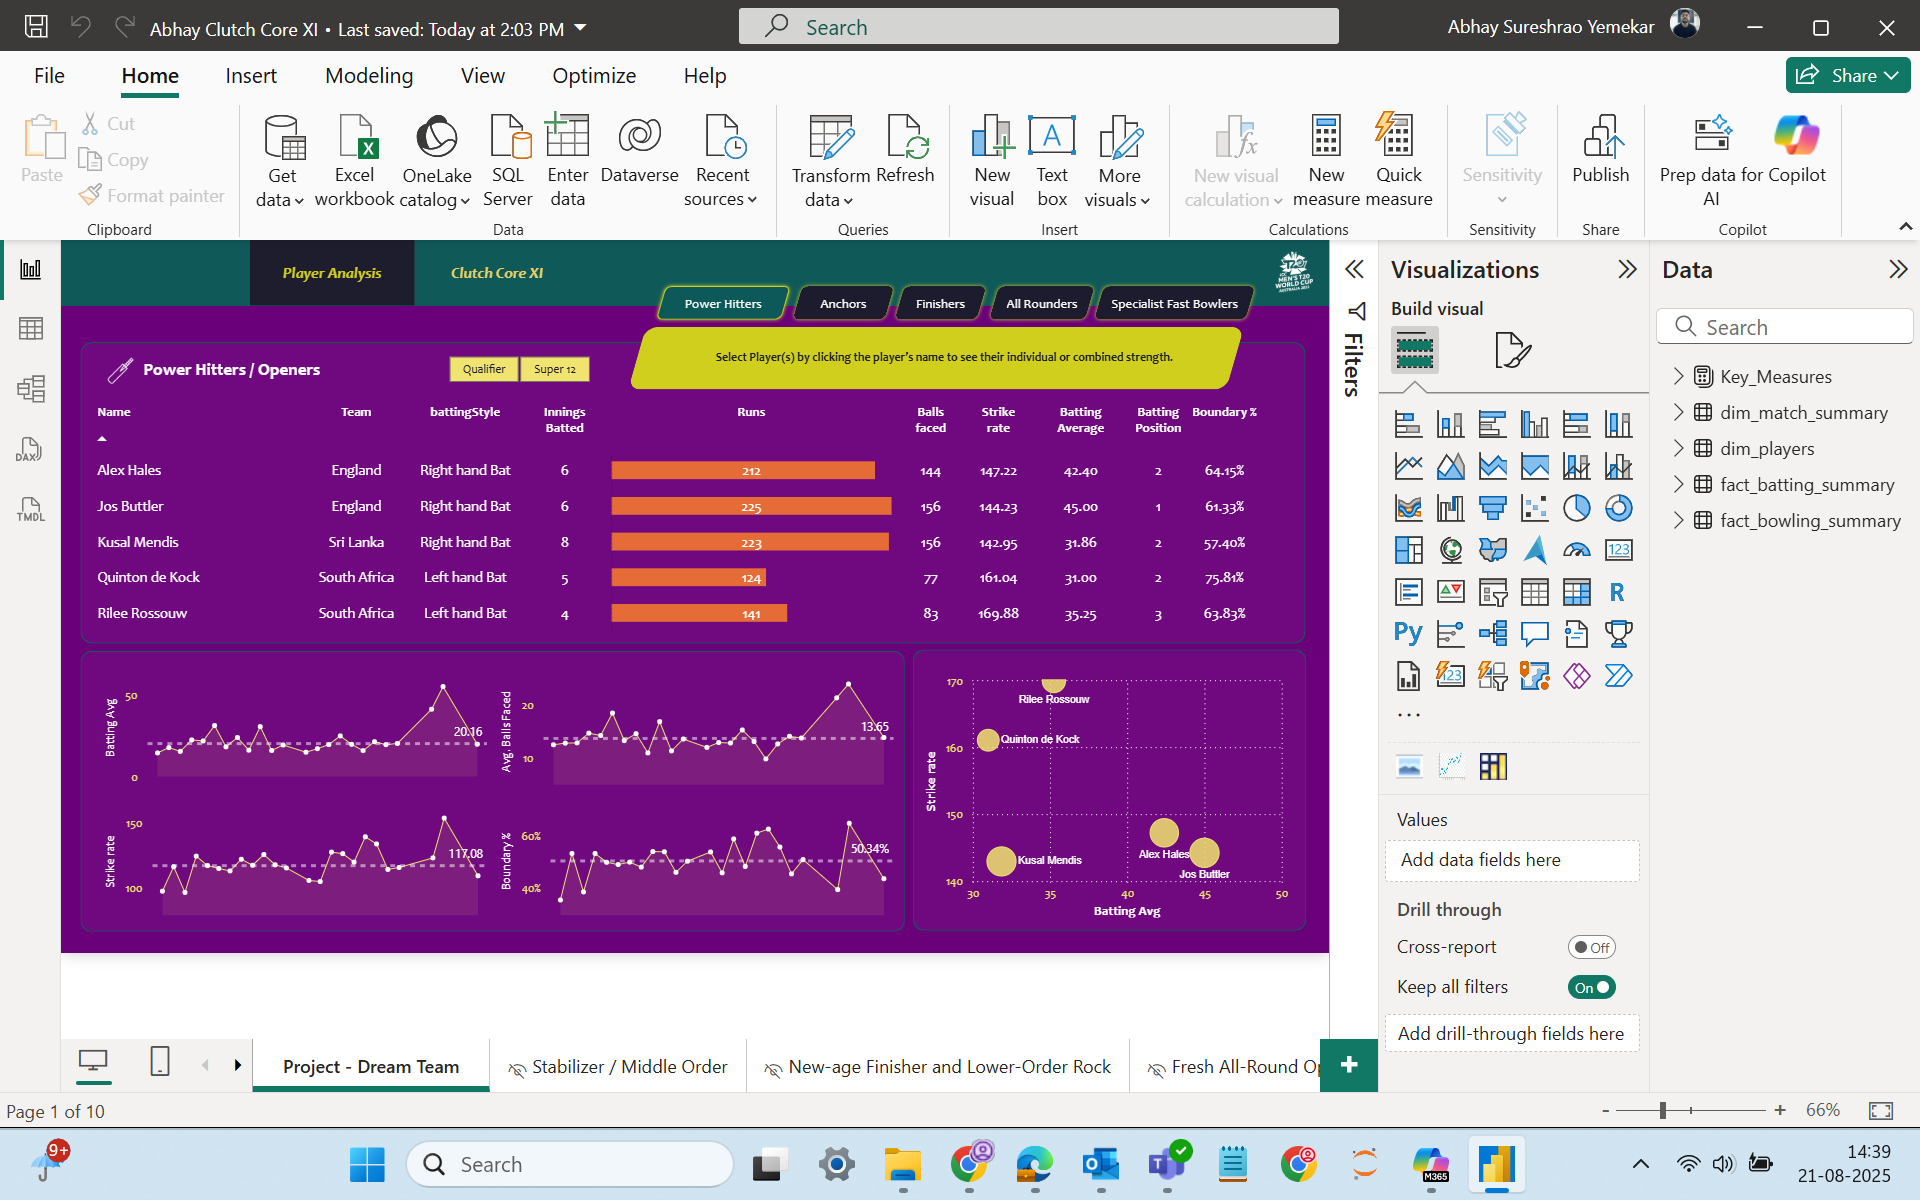

Layout of this report page (visuals, bound fields, positions):
{"tool":"powerbi","page":{"name":"New All Rounders / Lower Middle Order","canvas":[1280,720],"ordinal":3},"visuals":[{"type":"shape","box":[0,66,1280,654],"z":0},{"type":"card","fields":{"Values":["Key_Measures.Strike rate"]},"box":[867,89,93,60],"z":0,"group":"g2"},{"type":"shape","box":[83.7,116.3,260,31.2],"z":0,"group":"g1"},{"type":"card","fields":{"Values":["Key_Measures.Bat Avg"]},"box":[768,89,92,60],"z":1000,"group":"g2"},{"type":"image","box":[37.5,113.8,44,36],"z":1000,"group":"g1"},{"type":"shape","box":[20,414.4,832.2,283.3],"z":1000},{"type":"actionButton","box":[734,42.6,111,42],"z":2000},{"type":"card","fields":{"Values":["Key_Measures.Bowling Strike Rate"]},"box":[1073,89,100,60],"z":2000,"group":"g2"},{"type":"actionButton","box":[596,42.6,144,42],"z":3000},{"type":"card","fields":{"Values":["Key_Measures.Economy"]},"box":[966,89,101,60],"z":3000,"group":"g2"},{"type":"actionButton","box":[838,42.6,101,42],"z":4000},{"type":"actionButton","box":[932,42.6,115,42],"z":5000},{"type":"actionButton","box":[1039,42.6,171,42],"z":6000},{"type":"image","box":[1220,3,48,59],"z":7000},{"type":"shape","box":[20,102.2,1236.7,304.4],"z":9000},{"type":"group","id":"g1","title":"Group 2","box":[37.5,113.8,306.2,35],"z":10000},{"type":"slicer","fields":{"Values":["dim_match_summary.stage"]},"box":[366.7,111.1,191.1,38.9],"z":11000},{"type":"tableEx","fields":{"Values":["dim_player.name","Min(dim_player.team)","Min(dim_player.Batting Style)","Min(dim_player.Bowling Style)","Key_Measures.Total Innings Batted","Key_Measures.Total Runs","Key_Measures.Bat Avg","Key_Measures.Strike rate","Key_Measures.Total Innings Bowled","Key_Measures.Balls Bowled","Key_Measures.wickets","Key_Measures.Economy"]},"box":[26,151,1231,255],"z":12000},{"type":"shape","box":[572,88,622,63],"z":13000},{"type":"shape","box":[591,103,173,34],"z":14000},{"type":"group","id":"g2","title":"Combined Perfoamce Metrices","box":[768,89,405,60],"z":15000},{"type":"scatterChart","fields":{"Category":["dim_player.name"],"X":["Key_Measures.Bowling Strike Rate"],"Y":["Key_Measures.Economy"],"Size":["Key_Measures.Total Runs"]},"box":[874.4,427,370,254],"z":16000},{"type":"actionButton","title":"Button Player Ana selected","box":[191,0,166,66],"z":17000},{"type":"actionButton","title":"Button Player Ana selected","box":[357,0,166,66],"z":18000},{"type":"shape","box":[612,100,560,36],"z":19000},{"type":"shape","box":[859.5,414.3,396.7,283.1],"z":20000},{"type":"areaChart","fields":{"Category":["dim_match_summary.Match_Date.Variation.Date Hierarchy.Day"],"Y":["Key_Measures.Economy"]},"box":[446,430,406,126],"z":21000},{"type":"areaChart","fields":{"Category":["dim_match_summary.Match_Date.Variation.Date Hierarchy.Day"],"Y":["Key_Measures.Bowling Strike Rate"]},"box":[446,556,406,126],"z":22000},{"type":"areaChart","fields":{"Category":["dim_match_summary.Match_Date.Variation.Date Hierarchy.Day"],"Y":["Key_Measures.Bat Avg"]},"box":[40,428.9,395.6,126.7],"z":23000},{"type":"areaChart","fields":{"Category":["dim_match_summary.Match_Date.Variation.Date Hierarchy.Day"],"Y":["Key_Measures.Strike rate"]},"box":[40,555.6,396.7,125.6],"z":24000}]}

Visuals, with their boxes on the page's 1280x720 design canvas (x1, y1, x2, y2). These are canvas units, not pixel positions in the 1920x1200 screenshot, which may show the page scaled, cropped or inside an application window:
shape: (x1=0, y1=66, x2=1280, y2=720)
card - Key_Measures.Strike rate: (x1=867, y1=89, x2=960, y2=149)
shape: (x1=84, y1=116, x2=344, y2=148)
card - Key_Measures.Bat Avg: (x1=768, y1=89, x2=860, y2=149)
image: (x1=38, y1=114, x2=82, y2=150)
shape: (x1=20, y1=414, x2=852, y2=698)
actionButton: (x1=734, y1=43, x2=845, y2=85)
card - Key_Measures.Bowling Strike Rate: (x1=1073, y1=89, x2=1173, y2=149)
actionButton: (x1=596, y1=43, x2=740, y2=85)
card - Key_Measures.Economy: (x1=966, y1=89, x2=1067, y2=149)
actionButton: (x1=838, y1=43, x2=939, y2=85)
actionButton: (x1=932, y1=43, x2=1047, y2=85)
actionButton: (x1=1039, y1=43, x2=1210, y2=85)
image: (x1=1220, y1=3, x2=1268, y2=62)
shape: (x1=20, y1=102, x2=1257, y2=407)
"Group 2" group: (x1=38, y1=114, x2=344, y2=149)
slicer - dim_match_summary.stage: (x1=367, y1=111, x2=558, y2=150)
tableEx - dim_player.name x Min(dim_player.team): (x1=26, y1=151, x2=1257, y2=406)
shape: (x1=572, y1=88, x2=1194, y2=151)
shape: (x1=591, y1=103, x2=764, y2=137)
"Combined Perfoamce Metrices" group: (x1=768, y1=89, x2=1173, y2=149)
scatterChart - dim_player.name x Key_Measures.Bowling Strike Rate: (x1=874, y1=427, x2=1244, y2=681)
"Button Player Ana selected" actionButton: (x1=191, y1=0, x2=357, y2=66)
"Button Player Ana selected" actionButton: (x1=357, y1=0, x2=523, y2=66)
shape: (x1=612, y1=100, x2=1172, y2=136)
shape: (x1=860, y1=414, x2=1256, y2=697)
areaChart - dim_match_summary.Match_Date.Variation.Date Hierarchy.Day x Key_Measures.Economy: (x1=446, y1=430, x2=852, y2=556)
areaChart - dim_match_summary.Match_Date.Variation.Date Hierarchy.Day x Key_Measures.Bowling Strike Rate: (x1=446, y1=556, x2=852, y2=682)
areaChart - dim_match_summary.Match_Date.Variation.Date Hierarchy.Day x Key_Measures.Bat Avg: (x1=40, y1=429, x2=436, y2=556)
areaChart - dim_match_summary.Match_Date.Variation.Date Hierarchy.Day x Key_Measures.Strike rate: (x1=40, y1=556, x2=437, y2=681)
